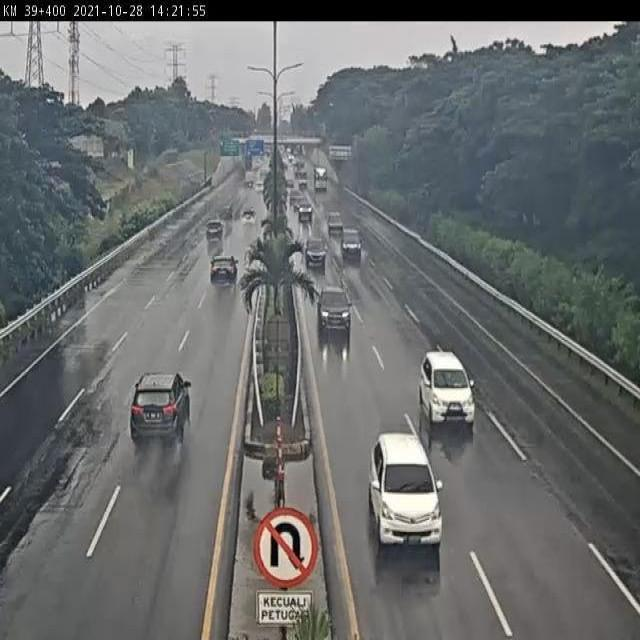car: (366, 434, 445, 554), (418, 353, 478, 428), (130, 372, 190, 445), (315, 287, 351, 332), (209, 253, 239, 288)
